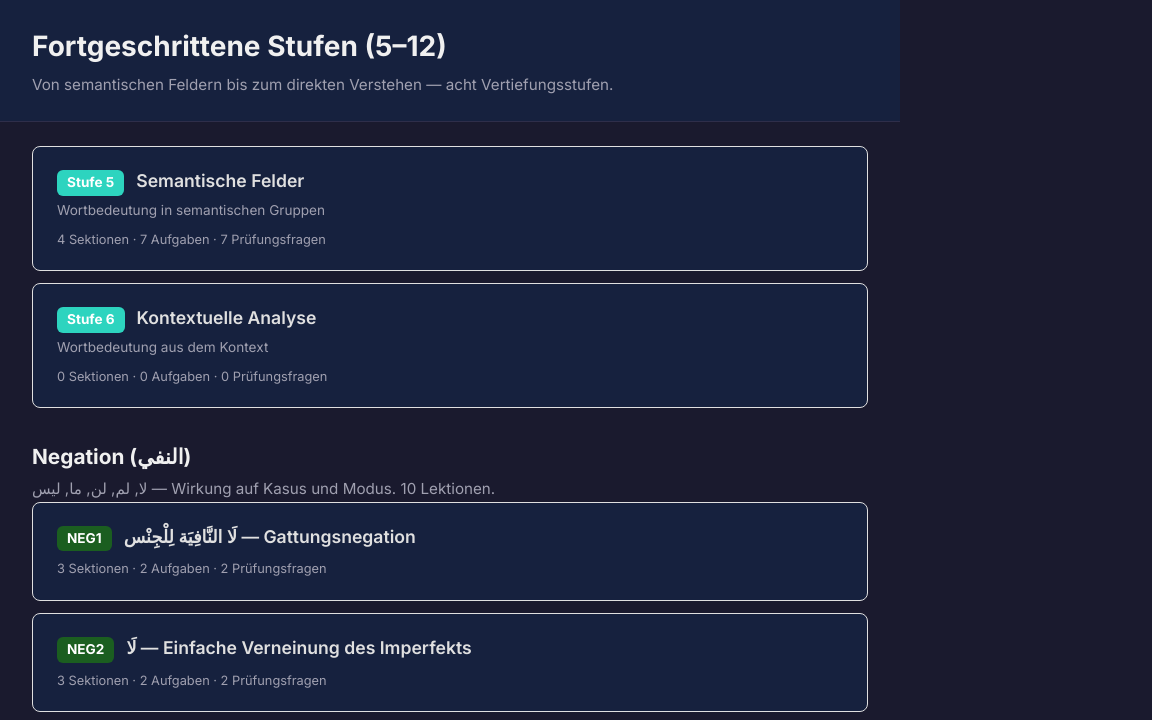
it: Module7 — Fortgeschrittene Stufen › exercises tab shows exercise cards
The width and height of the screenshot is (1152, 720).
Click the text "Semantische Felder": {"x": 220, "y": 181} [136,170,304,191]
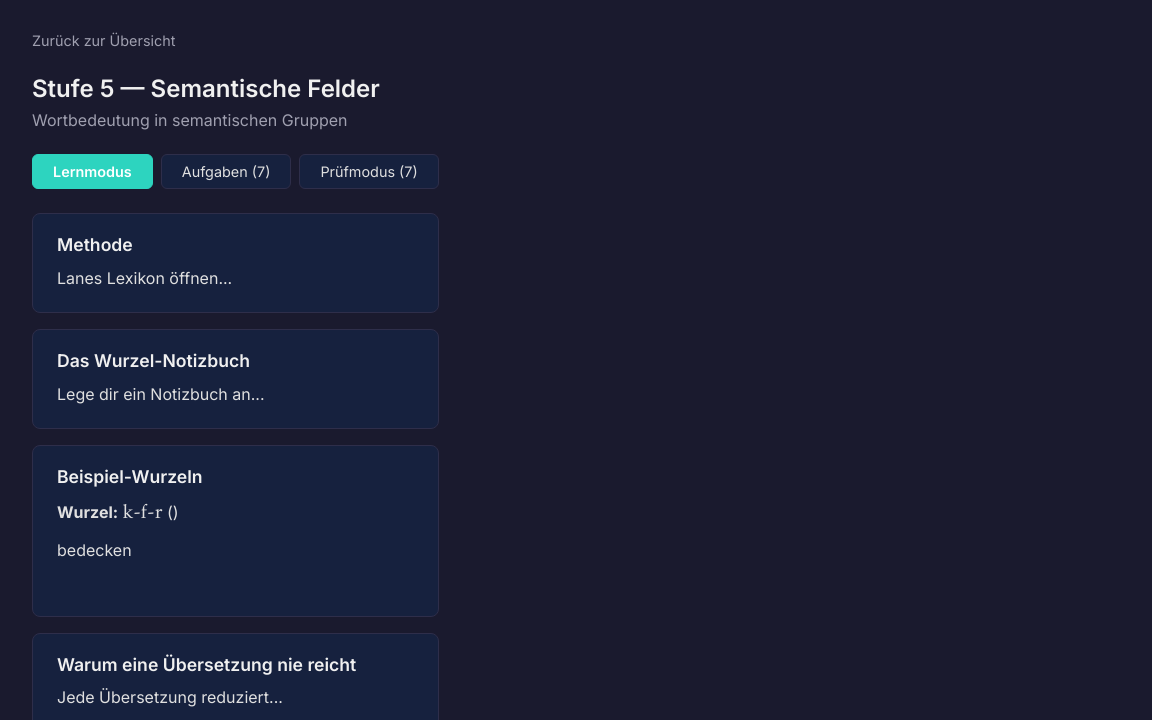
Note: Click exercises tab
Click the button "Aufgaben (7)": {"x": 226, "y": 171} [161,154,291,189]
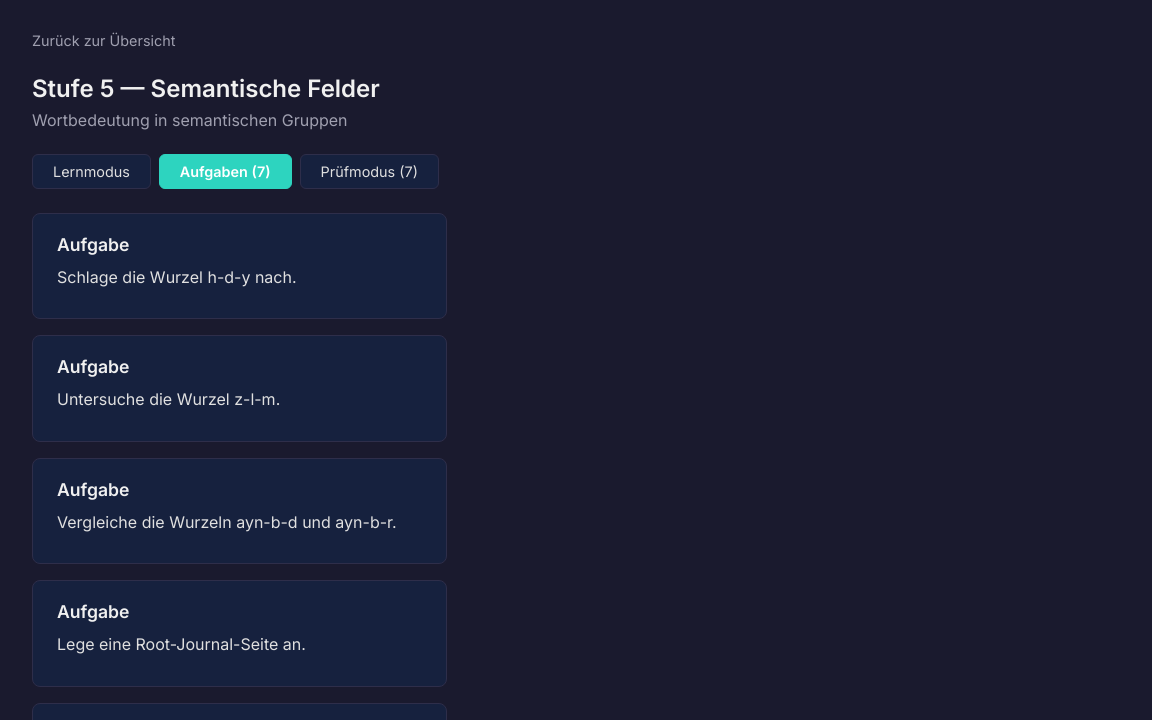
Expected: the text "Schlage die Wurzel h-d-y nach." is shown, [57,267,296,287]
